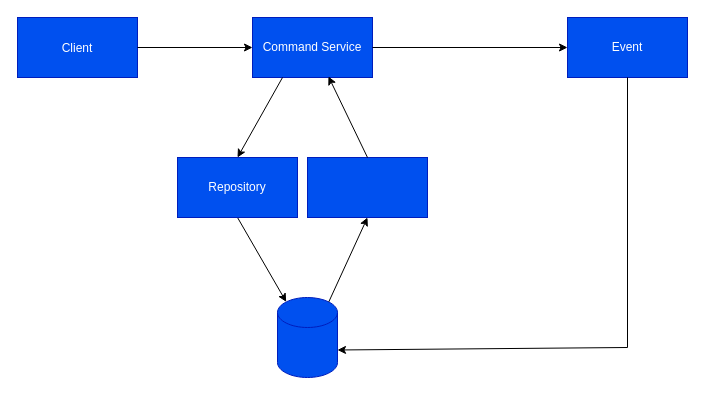
This 705x395 diagram has some shape labels left out. The shapes that lost their labels are listed below. From the top down, each one's centre as x and y in pixels, then its label:
At [367,187]: "Read Repository".
At [307,337]: "DB".
